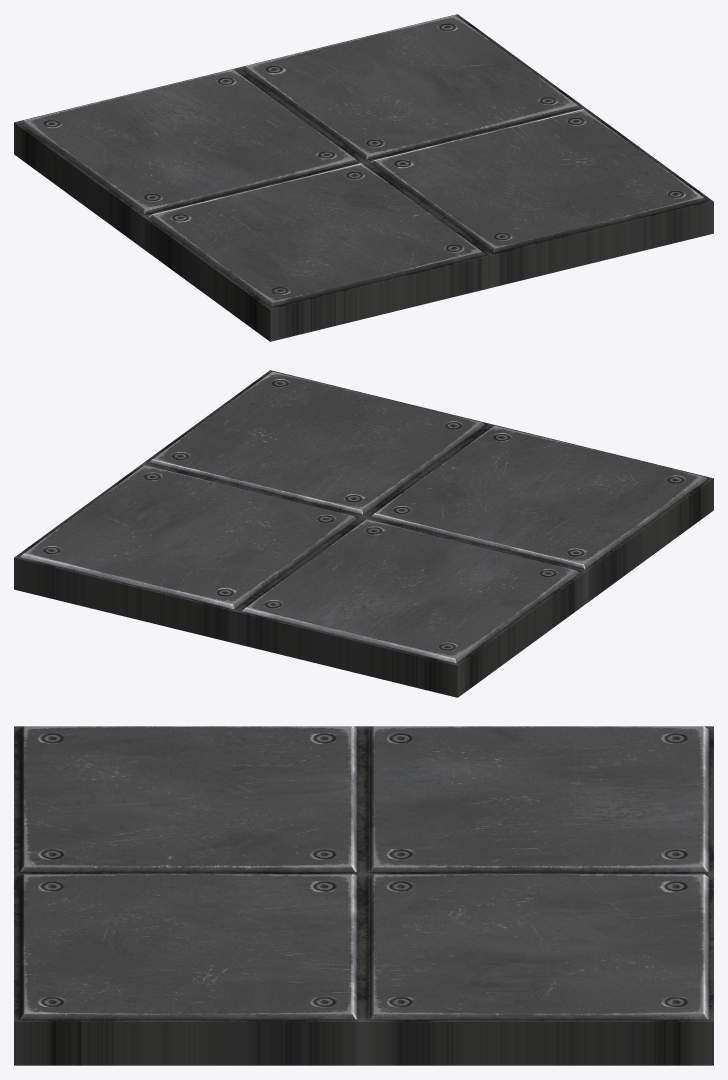
The model's file is kit_floor.glb.
3 renders of one model, top to bottom at view 1: azimuth 30°, elevation 25°; view 2: azimuth 150°, elevation 25°; view 3: azimuth 270°, elevation 25°, orthographic. The views are drawn at different scales.
Visible parts, largest first — view 1: kit_floor; view 2: kit_floor; view 3: kit_floor.
Part boxes in pixels (x1,y1,x2,y2): kit_floor: (14, 14, 713, 341); kit_floor: (14, 370, 713, 697); kit_floor: (14, 726, 713, 1065).
Size of the model in its own units: 4 by 0.3 by 4.
Materials: 1 (1 with a texture image).
